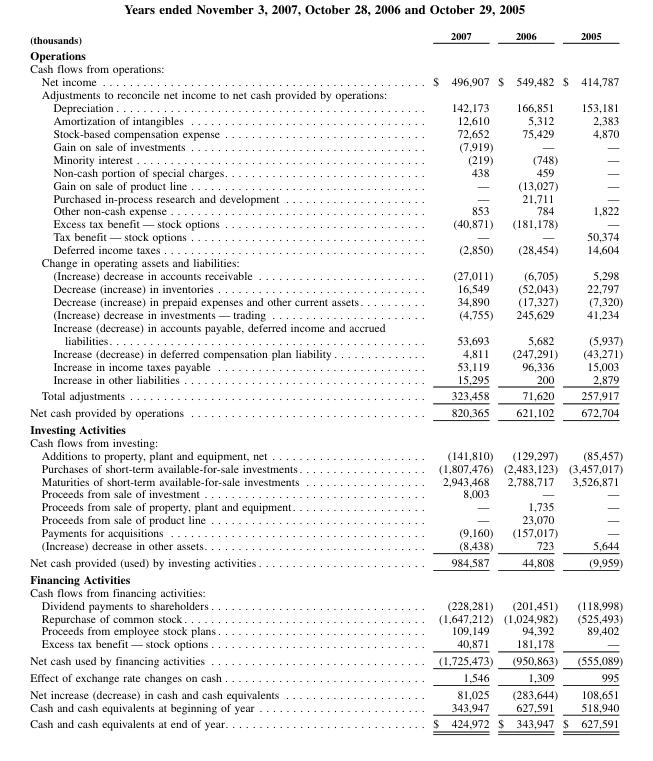table: (29, 29, 622, 730)
table column: (29, 29, 408, 730), (408, 29, 494, 730), (494, 29, 559, 730), (559, 29, 622, 730)
table column header: (29, 29, 622, 46)
table projected row header: (29, 46, 622, 61), (29, 420, 622, 435), (29, 570, 622, 585), (29, 61, 622, 74), (29, 87, 622, 100), (29, 255, 622, 268), (29, 435, 622, 448), (29, 585, 622, 598)
table row: (29, 320, 622, 346), (29, 29, 622, 46), (29, 386, 622, 403), (29, 403, 622, 420), (29, 553, 622, 570), (29, 651, 622, 668), (29, 668, 622, 685), (29, 46, 622, 61), (29, 420, 622, 435), (29, 538, 622, 553), (29, 570, 622, 585), (29, 636, 622, 651), (29, 685, 622, 700), (29, 700, 622, 715), (29, 715, 622, 730), (29, 372, 622, 386), (29, 61, 622, 74), (29, 74, 622, 87), (29, 87, 622, 100), (29, 100, 622, 113), (29, 113, 622, 126), (29, 126, 622, 139), (29, 139, 622, 152), (29, 152, 622, 165), (29, 165, 622, 178), (29, 178, 622, 191), (29, 191, 622, 204), (29, 216, 622, 229), (29, 229, 622, 242), (29, 242, 622, 255), (29, 255, 622, 268), (29, 268, 622, 281), (29, 281, 622, 294), (29, 294, 622, 307), (29, 307, 622, 320), (29, 346, 622, 359), (29, 359, 622, 372), (29, 435, 622, 448), (29, 448, 622, 461), (29, 461, 622, 474), (29, 474, 622, 487), (29, 499, 622, 512), (29, 512, 622, 525), (29, 525, 622, 538), (29, 585, 622, 598), (29, 598, 622, 611), (29, 611, 622, 624), (29, 204, 622, 216), (29, 487, 622, 499), (29, 624, 622, 636)
